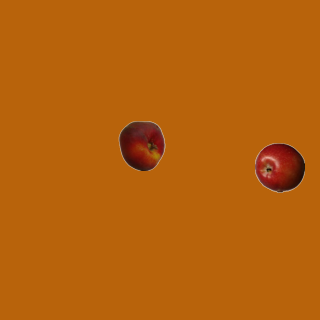Apple Braeburn: (254, 142, 304, 192)
Nectarine Flat: (116, 120, 166, 170)
